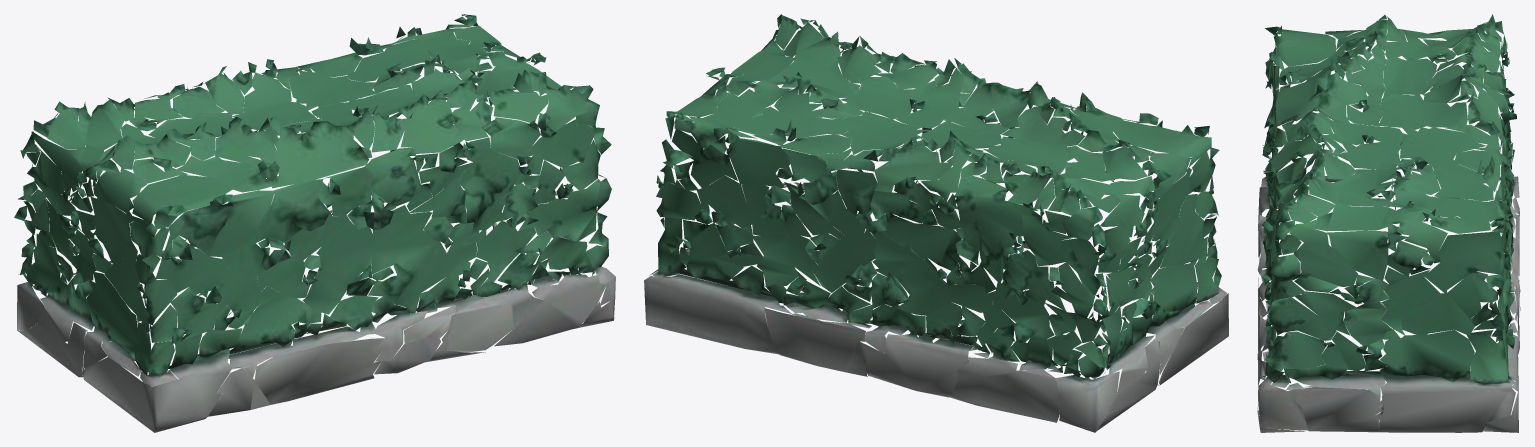
The model's file is green04.glb.
The picture shows the model from 3 angles, left to right: view 1: azimuth 30°, elevation 25°; view 2: azimuth 150°, elevation 25°; view 3: azimuth 270°, elevation 25°; orthographic projection. The views are drawn at different scales.
Parts seen in each view (by area): view 1: tripo_node_29c5b0e0-83ab-4f41-a87f-6bb63bf42a59; view 2: tripo_node_29c5b0e0-83ab-4f41-a87f-6bb63bf42a59; view 3: tripo_node_29c5b0e0-83ab-4f41-a87f-6bb63bf42a59.
Part boxes in pixels (x1=…): tripo_node_29c5b0e0-83ab-4f41-a87f-6bb63bf42a59: x1=14, y1=14, x2=615, y2=432; tripo_node_29c5b0e0-83ab-4f41-a87f-6bb63bf42a59: x1=644, y1=14, x2=1228, y2=432; tripo_node_29c5b0e0-83ab-4f41-a87f-6bb63bf42a59: x1=1257, y1=14, x2=1520, y2=432.
Bounding box in the file's own units: 0.9945 × 0.5085 × 0.5105.
Materials: 1 (1 with a texture image).
